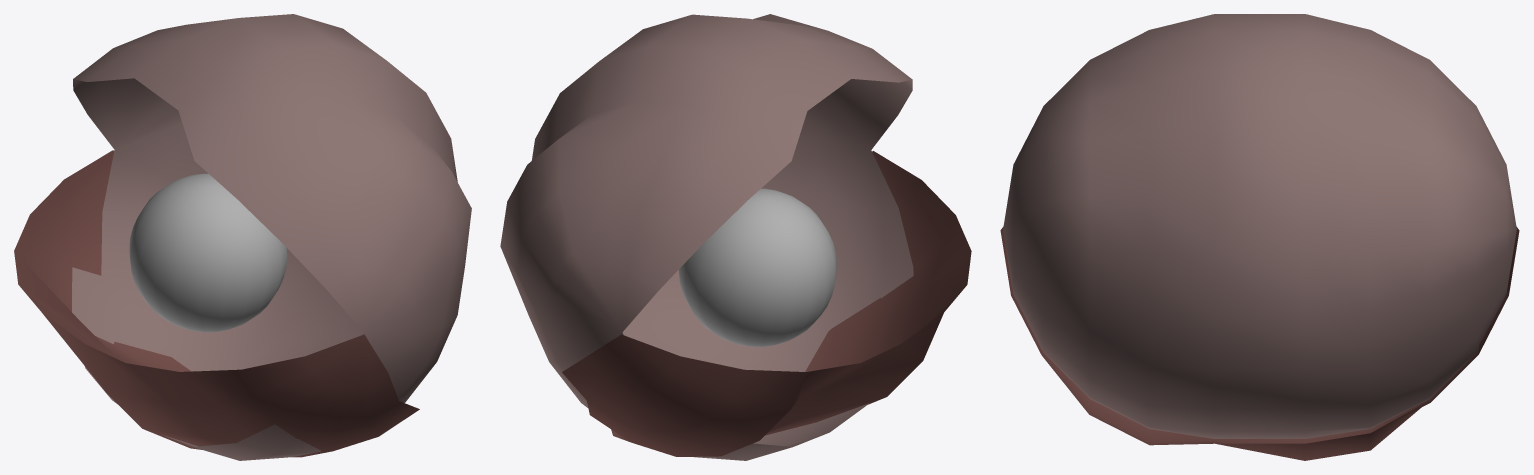
The model's file is kerang buka.fbx.
The picture shows the model from 3 angles, left to right: view 1: azimuth 30°, elevation 25°; view 2: azimuth 150°, elevation 25°; view 3: azimuth 270°, elevation 25°; orthographic projection. The views are drawn at different scales.
Parts seen in each view (by area): view 1: pCylinder2_polySurface1; view 2: pCylinder2_polySurface1; view 3: pCylinder2_polySurface1.
Boxes of the visible parts, left/top/right/bottom form: pCylinder2_polySurface1: left=14, top=14, right=471, bottom=460; pCylinder2_polySurface1: left=500, top=14, right=971, bottom=460; pCylinder2_polySurface1: left=1000, top=14, right=1519, bottom=460.
Bounding box in the file's own units: 9.01 × 8.97 × 10.49.
